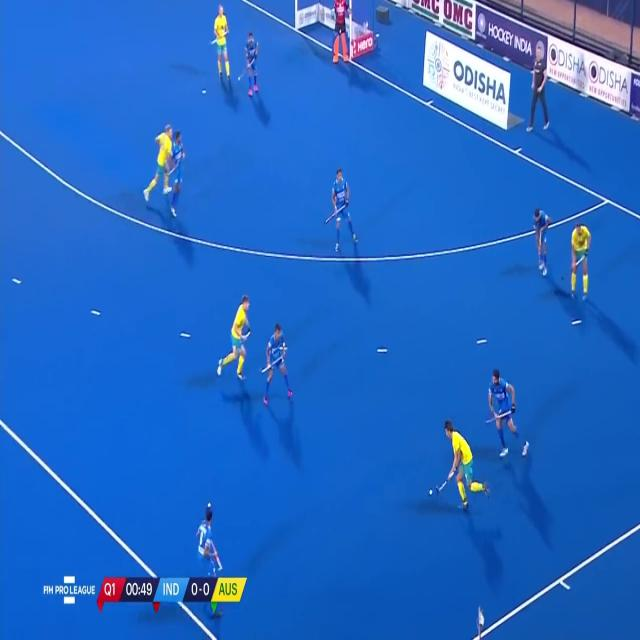ball: (426, 484, 436, 500)
